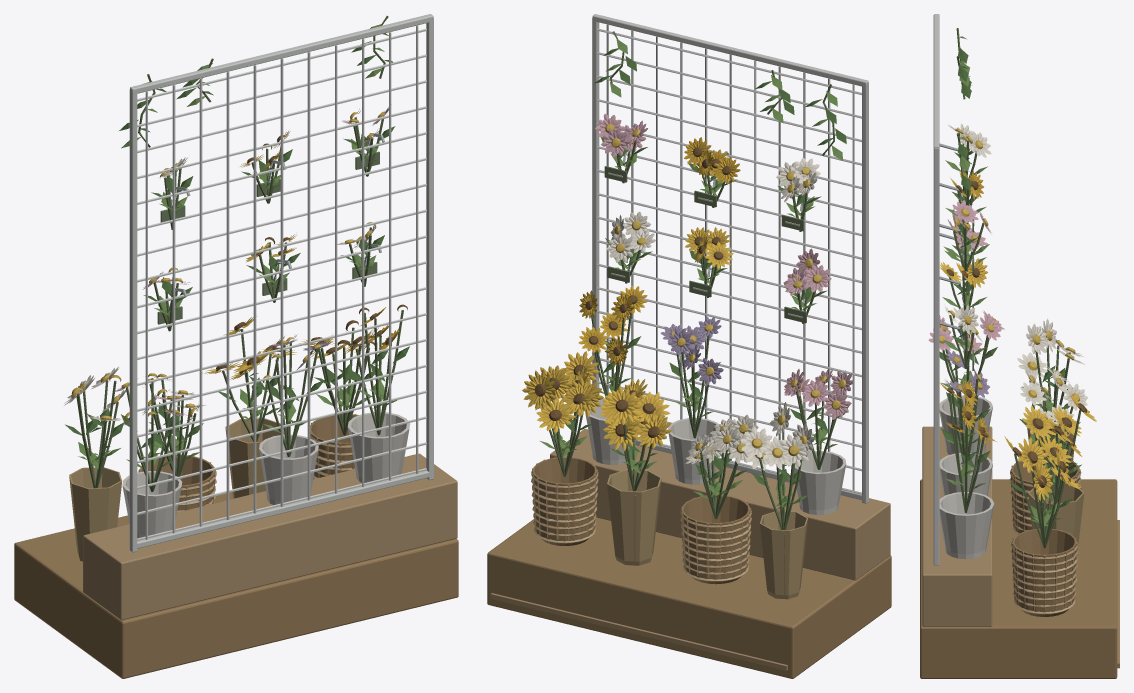
Rendered from bouquets.glb.
The picture shows the model from 3 angles, left to right: view 1: azimuth 30°, elevation 25°; view 2: azimuth 150°, elevation 25°; view 3: azimuth 270°, elevation 25°; orthographic projection. The views are drawn at different scales.
Visible parts, largest first — view 1: DaisoFlowerStand; view 2: DaisoFlowerStand; view 3: DaisoFlowerStand.
Boxes of the visible parts, x1,y1,x2,y2 form: DaisoFlowerStand: (14, 14, 458, 678); DaisoFlowerStand: (487, 14, 891, 678); DaisoFlowerStand: (920, 14, 1119, 678).
Size of the model in its own units: 1.16 by 1.91 by 0.659.
